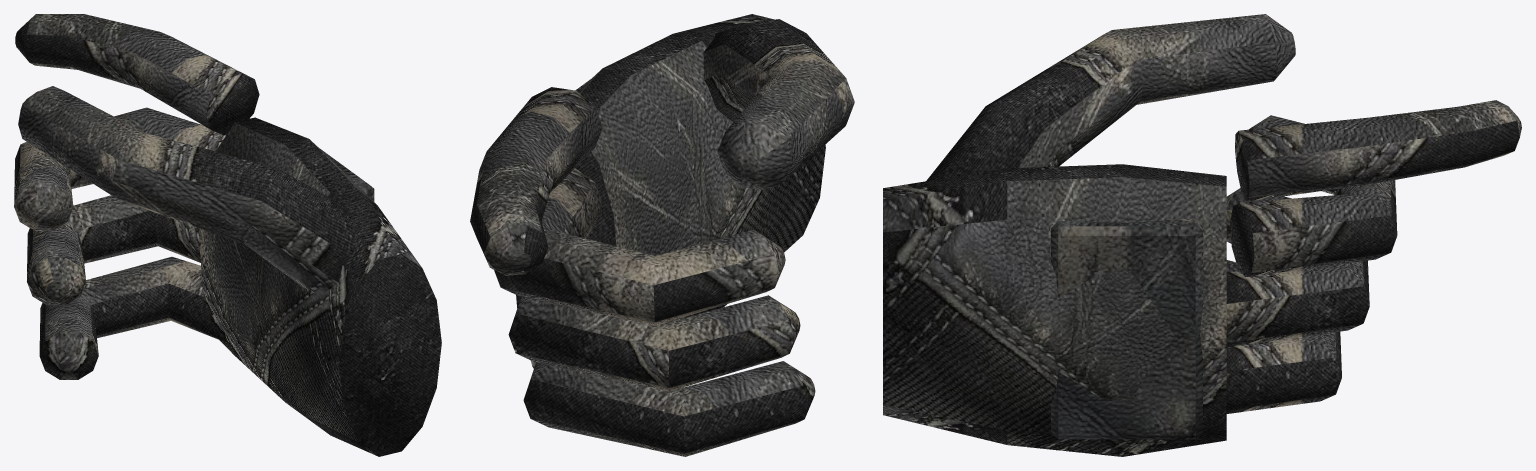
Rendered from hand_gun_r.glb.
3 views of the same model, side by side, from view 1: azimuth 30°, elevation 25°; view 2: azimuth 150°, elevation 25°; view 3: azimuth 270°, elevation 25° (orthographic). The views are drawn at different scales.
Visible parts, largest first — view 1: palm, thumb, trigger_finger, finger_2, finger_1, finger_0; view 2: palm, finger_0, finger_2, finger_1, thumb, trigger_finger; view 3: palm, thumb, knuckle_pad, trigger_finger, finger_0, finger_1, finger_2.
Boxes of the visible parts, left/top/right/bottom form: palm: left=199, top=117, right=441, bottom=456; thumb: left=18, top=86, right=356, bottom=295; trigger_finger: left=15, top=14, right=259, bottom=134; finger_2: left=39, top=256, right=226, bottom=379; finger_1: left=27, top=195, right=200, bottom=305; finger_0: left=14, top=107, right=226, bottom=230; palm: left=516, top=14, right=825, bottom=368; finger_0: left=494, top=168, right=785, bottom=325; finger_2: left=523, top=361, right=815, bottom=456; finger_1: left=508, top=295, right=800, bottom=391; thumb: left=703, top=19, right=854, bottom=190; trigger_finger: left=470, top=87, right=602, bottom=275; palm: left=883, top=164, right=1226, bottom=456; thumb: left=926, top=14, right=1295, bottom=181; knuckle_pad: left=1051, top=218, right=1202, bottom=439; trigger_finger: left=1235, top=100, right=1521, bottom=201; finger_0: left=1230, top=115, right=1397, bottom=277; finger_1: left=1226, top=188, right=1369, bottom=346; finger_2: left=1226, top=260, right=1341, bottom=413.
Bounding box in the file's own units: 3.66 × 4 × 6.94.
2 materials, 2 textured.
